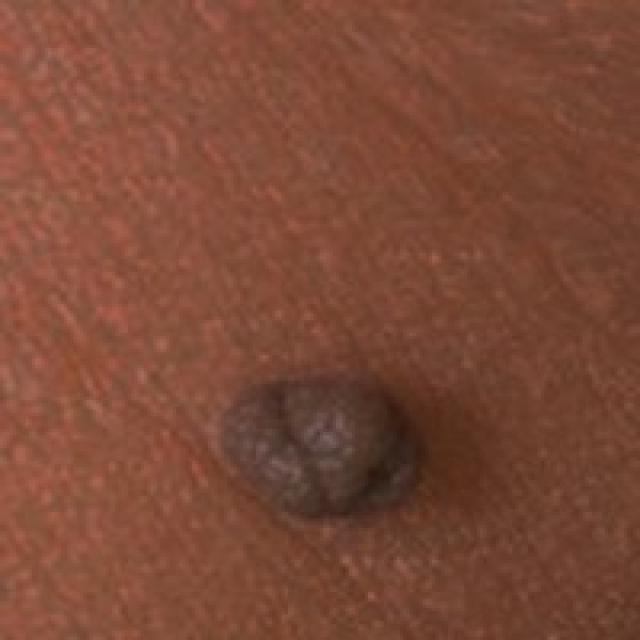wart: (186, 336, 464, 538)
